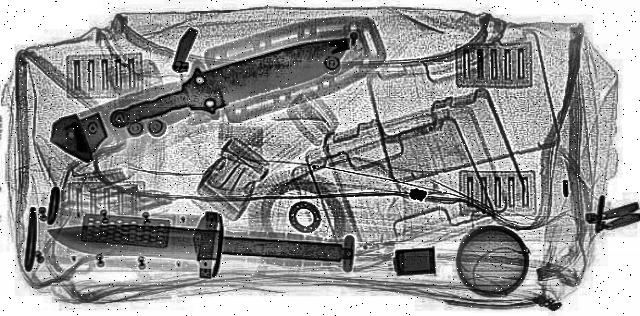Knife: (75, 20, 378, 140), (36, 204, 357, 286)
